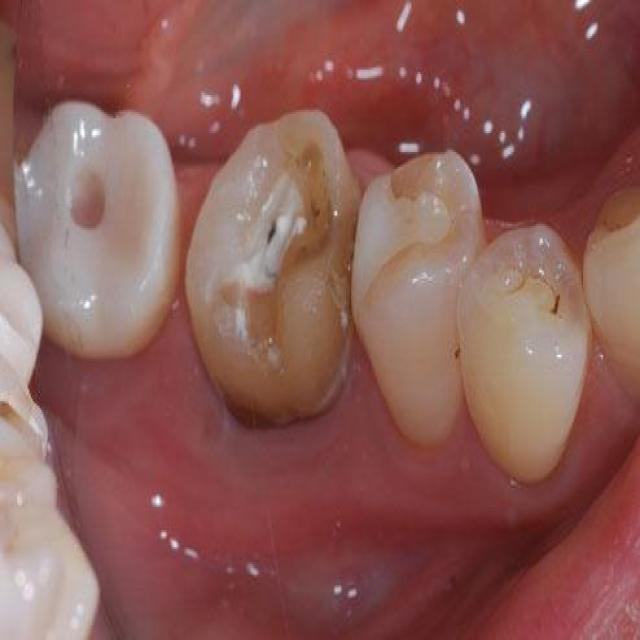Caries: (549, 294, 560, 313), (268, 222, 275, 245)
Cavity: (219, 142, 333, 344), (70, 167, 105, 232)
Tooth: (185, 108, 365, 433), (13, 99, 181, 361), (351, 148, 488, 456), (456, 224, 592, 482), (586, 182, 639, 408)
